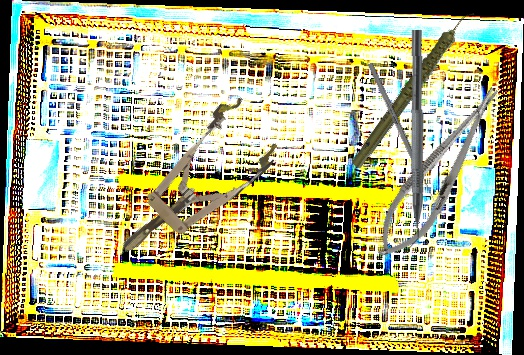Chopper: (396, 29, 426, 255)
Handpiece: (324, 7, 505, 172)
Needle Holder: (363, 76, 516, 270)
Pusher: (367, 62, 438, 206)
Speculum: (96, 90, 290, 278)
